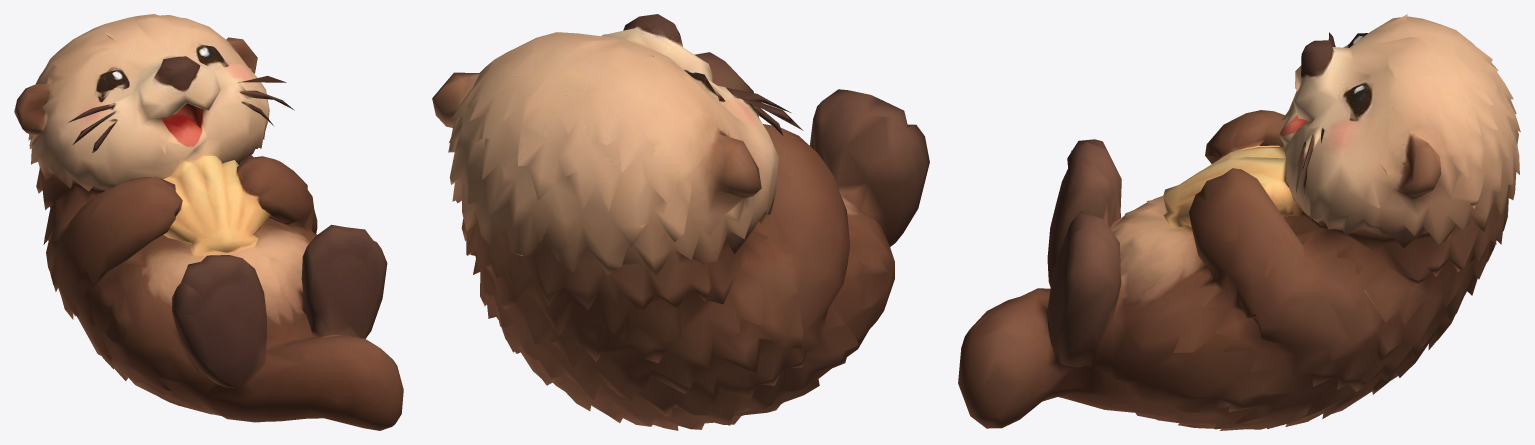
File: otter.glb
The picture shows the model from 3 angles, left to right: view 1: azimuth 30°, elevation 25°; view 2: azimuth 150°, elevation 25°; view 3: azimuth 270°, elevation 25°; orthographic projection. The views are drawn at different scales.
Parts seen in each view (by area): view 1: tripo_node_227498a1-89be-4f3f-99c8-7e74710ab40d; view 2: tripo_node_227498a1-89be-4f3f-99c8-7e74710ab40d; view 3: tripo_node_227498a1-89be-4f3f-99c8-7e74710ab40d.
Part boxes in pixels (x1,y1,x2,y2): tripo_node_227498a1-89be-4f3f-99c8-7e74710ab40d: (14,14,403,430); tripo_node_227498a1-89be-4f3f-99c8-7e74710ab40d: (432,14,929,430); tripo_node_227498a1-89be-4f3f-99c8-7e74710ab40d: (958,14,1520,430).
Size of the model in its own units: 0.5946 by 0.7472 by 1.
1 material, 1 textured.
